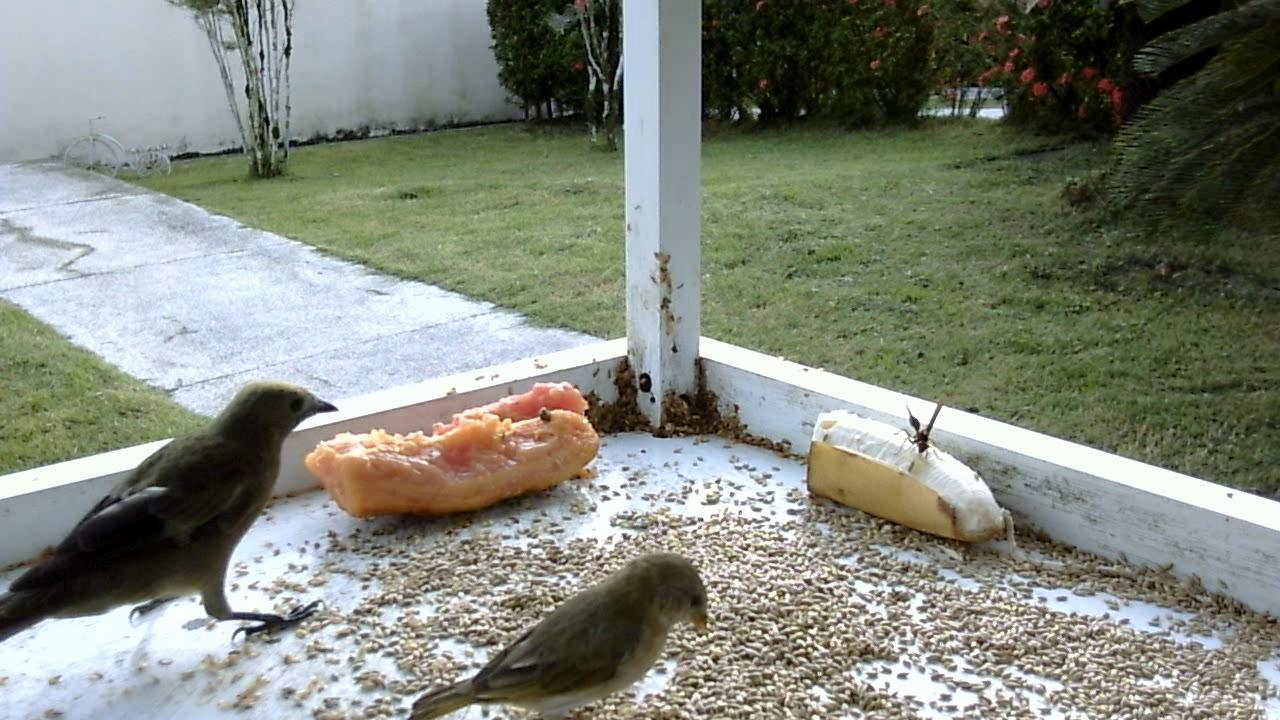canario_do_amazonas: (400, 551, 710, 720)
sanhaco_do_coqueiro: (1, 371, 343, 656)
